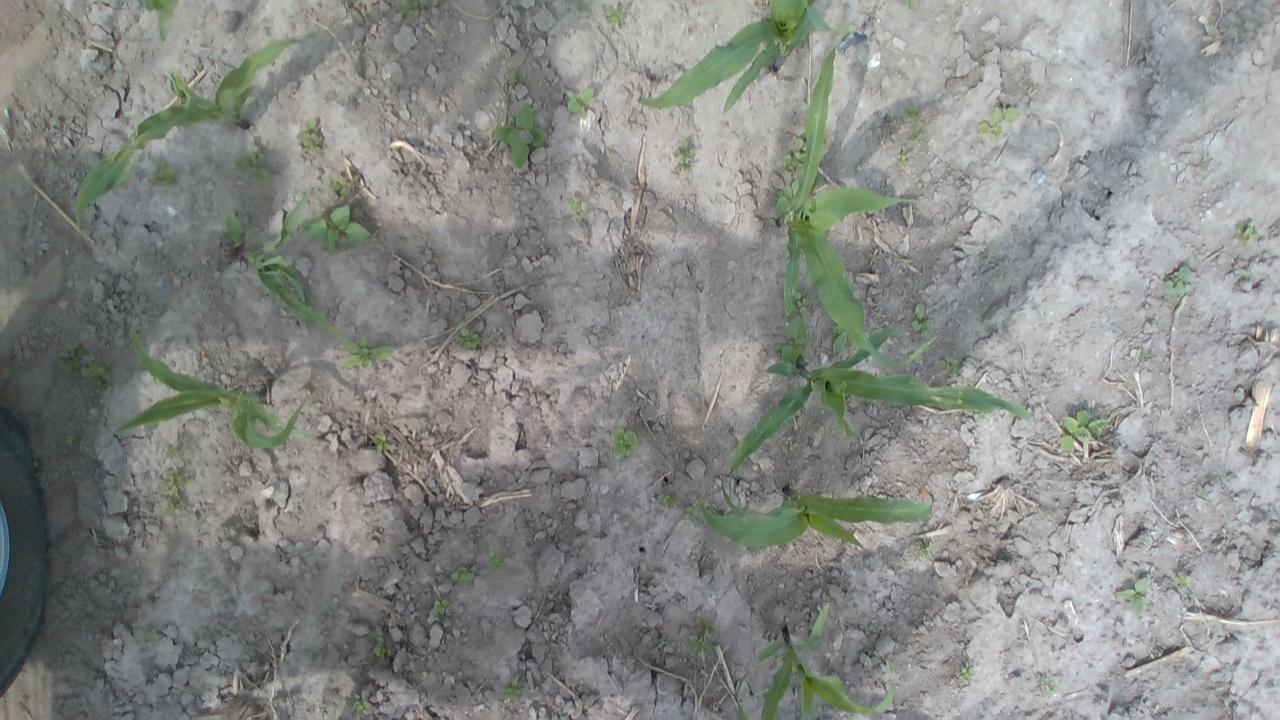Maize: (772, 34, 942, 371), (726, 317, 1033, 476), (72, 37, 302, 232), (112, 320, 310, 450), (636, 0, 840, 113), (731, 602, 894, 718), (698, 487, 932, 552), (226, 194, 319, 323), (141, 0, 178, 41)
Weeds: (494, 102, 552, 170), (307, 205, 376, 248), (343, 332, 392, 366), (1064, 409, 1102, 449), (780, 314, 809, 364), (158, 470, 192, 510), (978, 106, 1017, 137), (1120, 577, 1148, 613), (1166, 264, 1192, 300), (296, 124, 326, 153), (611, 428, 637, 461), (672, 136, 698, 168), (776, 179, 799, 214), (912, 305, 935, 339), (690, 618, 714, 650), (786, 138, 806, 175), (563, 87, 595, 110), (235, 148, 264, 172), (148, 159, 175, 181), (601, 2, 628, 24), (686, 493, 708, 518), (57, 346, 78, 372), (456, 330, 482, 348), (1238, 224, 1260, 245), (832, 324, 848, 352), (85, 364, 112, 380), (572, 195, 590, 217), (659, 492, 680, 510), (940, 356, 961, 374), (452, 566, 473, 583), (354, 688, 369, 711), (919, 538, 935, 558), (393, 0, 428, 9), (794, 292, 808, 314), (487, 552, 505, 569), (376, 433, 392, 452), (1174, 571, 1194, 586), (506, 682, 522, 700), (961, 667, 977, 683), (374, 644, 395, 656), (434, 599, 450, 614), (164, 444, 180, 458), (142, 624, 158, 638), (331, 182, 348, 195), (502, 68, 518, 81), (899, 148, 912, 164), (910, 128, 924, 142), (908, 107, 921, 121), (578, 0, 594, 9), (68, 435, 82, 445)
